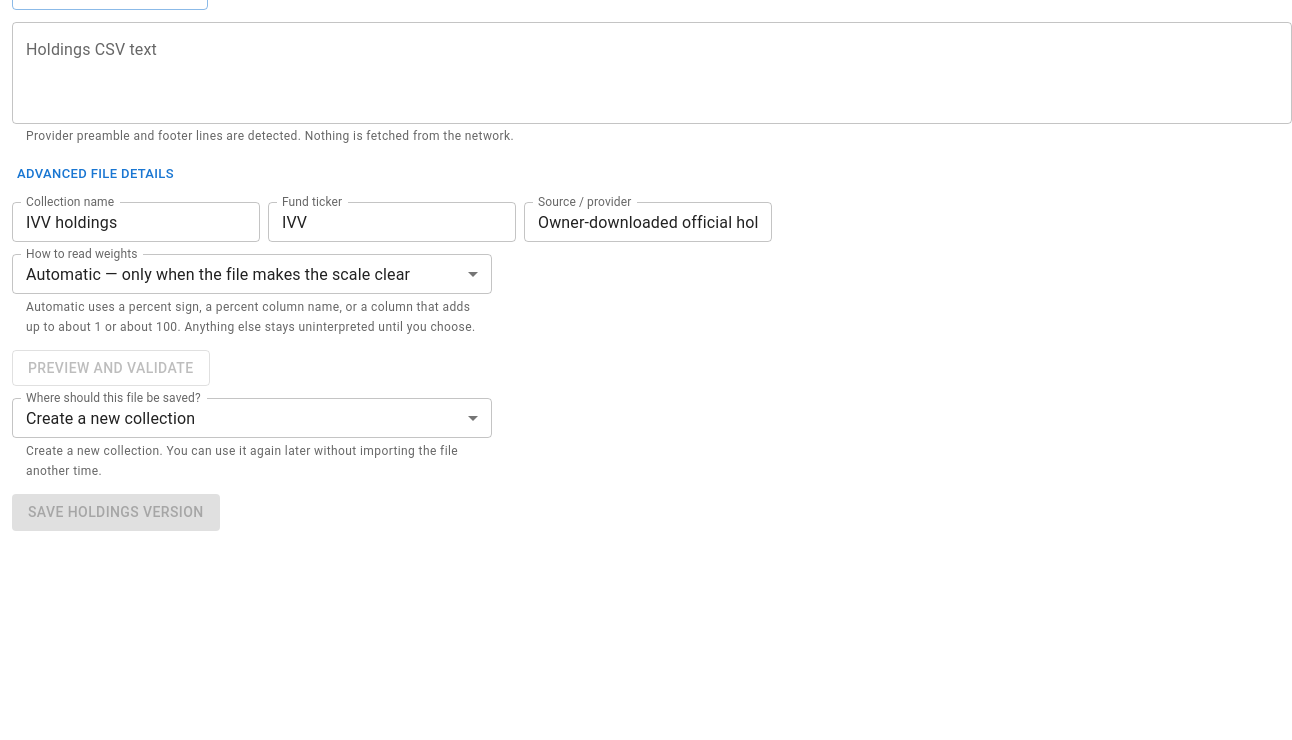
Scenario: Holdings import panel › requires an owner date when the new file has none
This screenshot has width=1292, height=740.
Type "NO_DATE,Ticker" into the text box labelled "Holdings CSV text" at (652, 74), box [26, 39, 1278, 108]
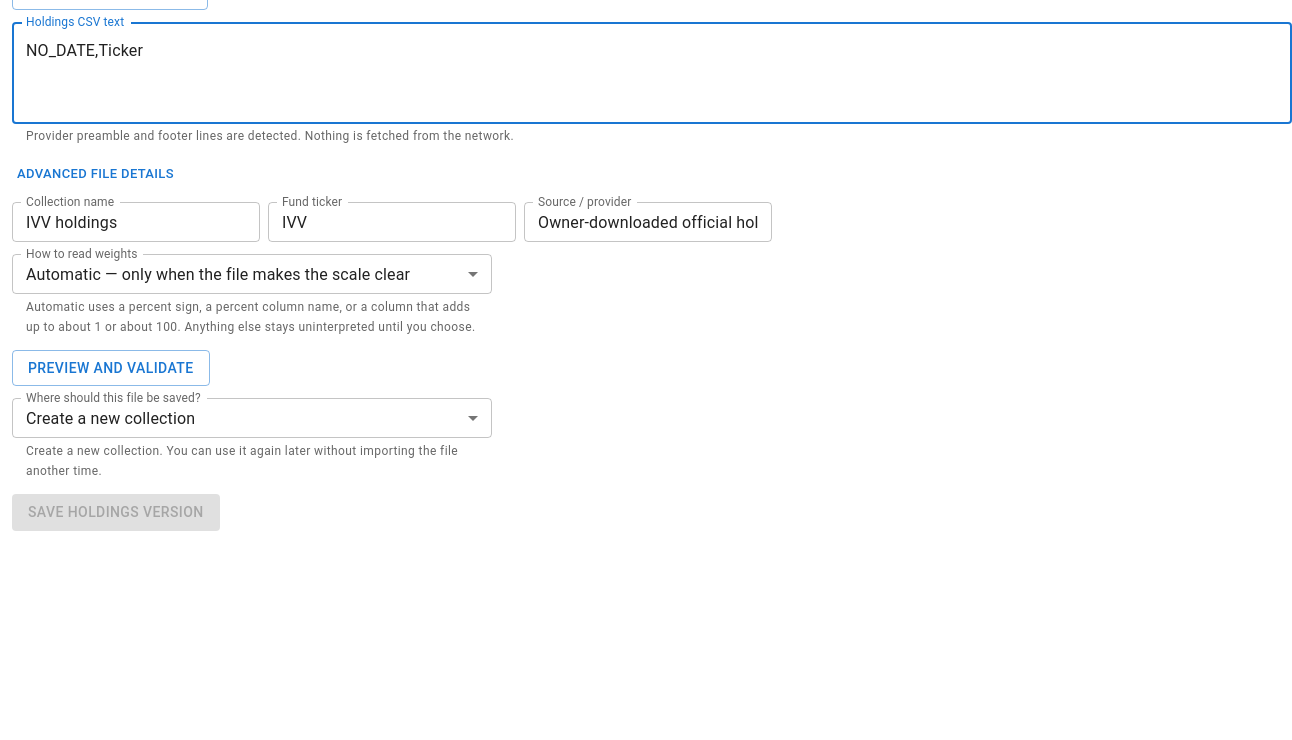
Click the button "Preview and validate" at (111, 368), box [12, 350, 210, 386]
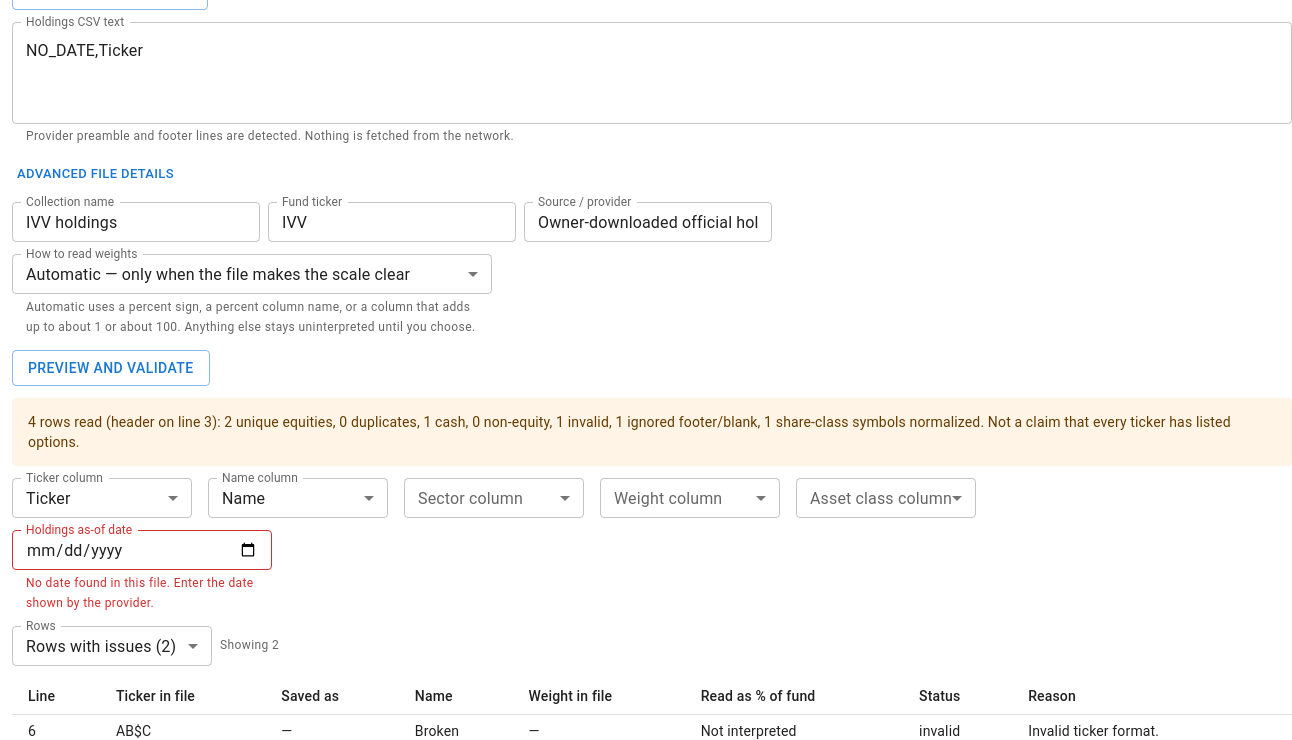
Expected: the date field labelled "Holdings as-of date" is empty
Type "2026-10-12" into the date field labelled "Holdings as-of date" at (142, 550), box [12, 530, 272, 570]
(page scrolled)
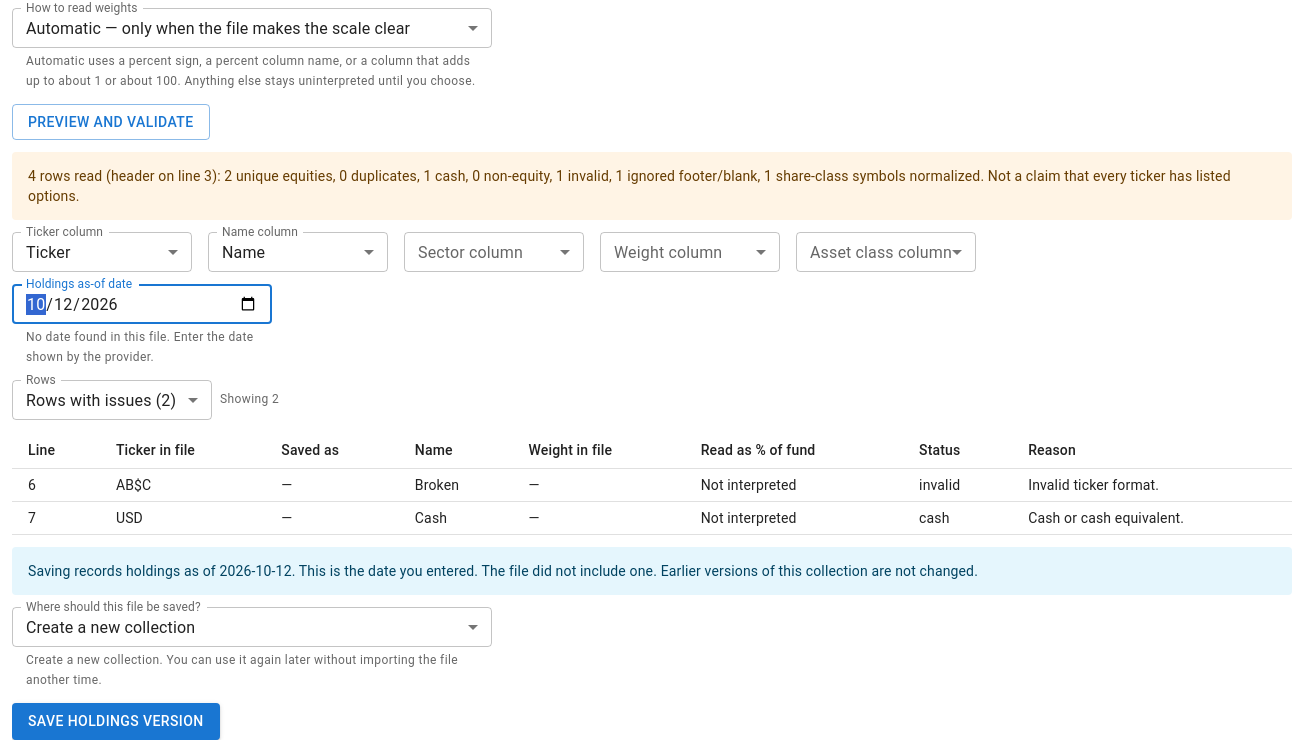
Expected: the button "Save holdings version" is enabled, [12, 703, 220, 739]
Expected: the text "Saving records holdings as of 2026-10-12" is shown, [28, 563, 978, 579]
Expected: the text "The file did not include one" is shown, [296, 563, 657, 579]
